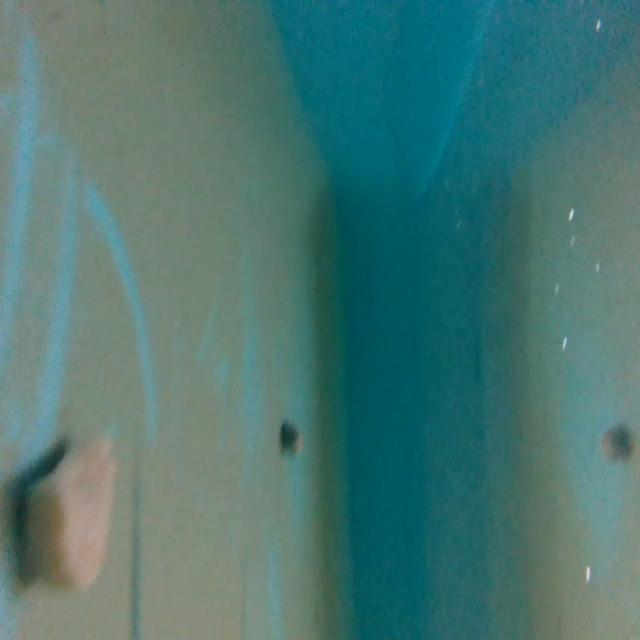rock: (21, 436, 123, 596), (280, 415, 301, 458)
